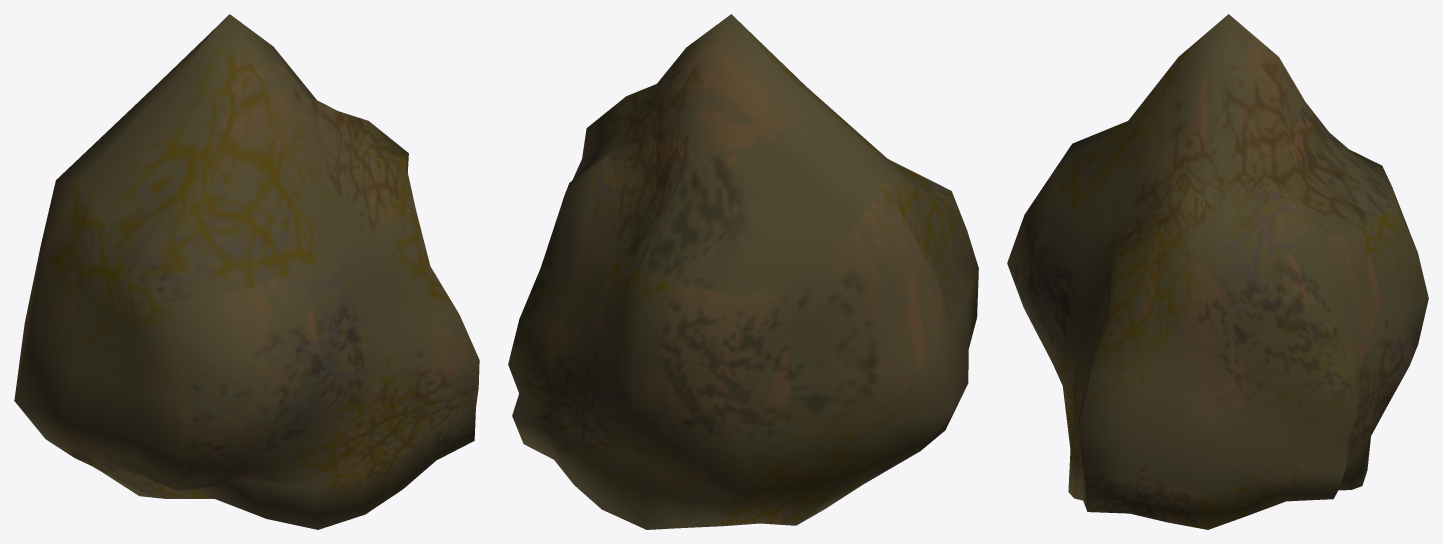
The model's file is JoãoPedroBaião_882555 (2).fbx_Pedra.fbx.
3 views of the same model, side by side, from view 1: azimuth 30°, elevation 25°; view 2: azimuth 150°, elevation 25°; view 3: azimuth 270°, elevation 25° (orthographic). The views are drawn at different scales.
Visible parts, largest first — view 1: Pedra; view 2: Pedra; view 3: Pedra.
Part boxes in pixels (left/top/right/bottom): Pedra: left=14, top=14, right=479, bottom=529; Pedra: left=508, top=14, right=978, bottom=529; Pedra: left=1007, top=14, right=1428, bottom=529.
Bounding box in the file's own units: 103 × 116 × 97.41.
